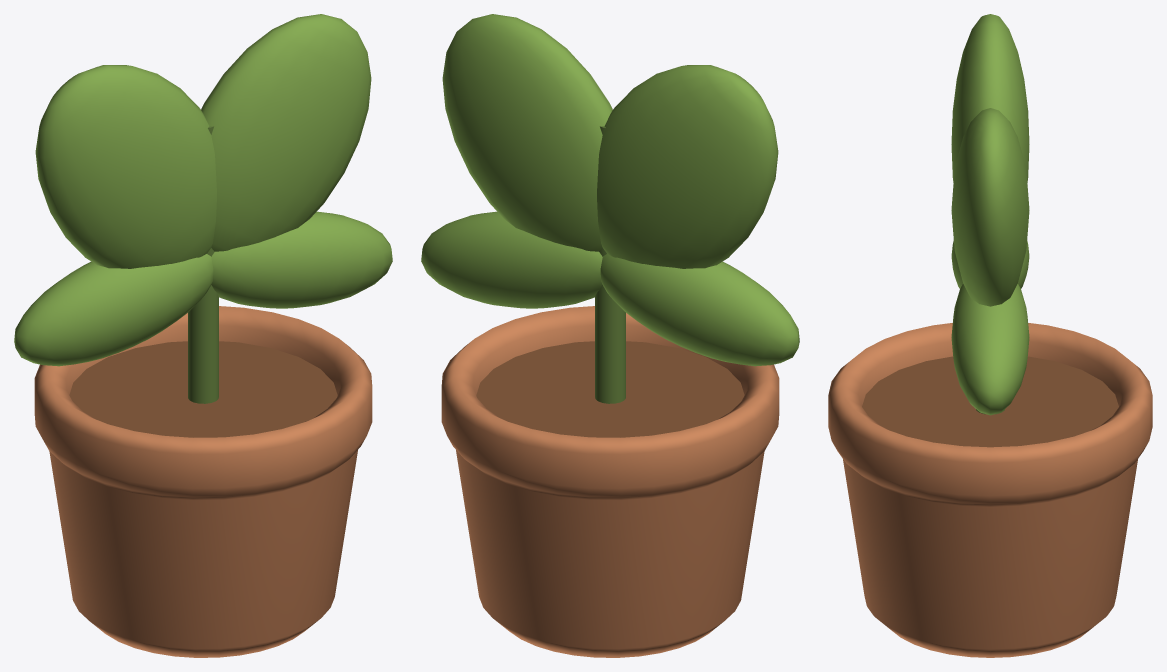
Rendered from plant-pot.glb.
The picture shows the model from 3 angles, left to right: view 1: azimuth 30°, elevation 25°; view 2: azimuth 150°, elevation 25°; view 3: azimuth 270°, elevation 25°; orthographic projection. The views are drawn at different scales.
Parts seen in each view (by area): view 1: Plant_hollow_pot, Plant_leaf_2, Plant_leaf_3, Plant_soil, Plant_leaf_0, Plant_leaf_1, Plant_stem; view 2: Plant_hollow_pot, Plant_leaf_2, Plant_leaf_3, Plant_soil, Plant_leaf_0, Plant_leaf_1, Plant_stem; view 3: Plant_hollow_pot, Plant_soil, Plant_leaf_3, Plant_leaf_1, Plant_leaf_2, Plant_leaf_0.
Boxes of the visible parts, bbox=[...] form: Plant_hollow_pot: bbox=[34, 306, 372, 657]; Plant_leaf_2: bbox=[35, 65, 216, 268]; Plant_leaf_3: bbox=[201, 14, 371, 251]; Plant_soil: bbox=[69, 341, 337, 437]; Plant_leaf_0: bbox=[14, 254, 213, 366]; Plant_leaf_1: bbox=[211, 211, 392, 308]; Plant_stem: bbox=[188, 126, 218, 403]; Plant_hollow_pot: bbox=[441, 306, 779, 657]; Plant_leaf_2: bbox=[597, 65, 778, 268]; Plant_leaf_3: bbox=[442, 14, 612, 251]; Plant_soil: bbox=[476, 341, 744, 437]; Plant_leaf_0: bbox=[600, 254, 799, 366]; Plant_leaf_1: bbox=[421, 211, 602, 308]; Plant_stem: bbox=[595, 126, 625, 403]; Plant_hollow_pot: bbox=[828, 323, 1152, 657]; Plant_soil: bbox=[862, 356, 1118, 447]; Plant_leaf_3: bbox=[951, 108, 1029, 306]; Plant_leaf_1: bbox=[951, 284, 1029, 415]; Plant_leaf_2: bbox=[951, 14, 1029, 182]; Plant_leaf_0: bbox=[951, 240, 1029, 288].
Size of the model in its own units: 0.6924 by 0.9996 by 0.54.
